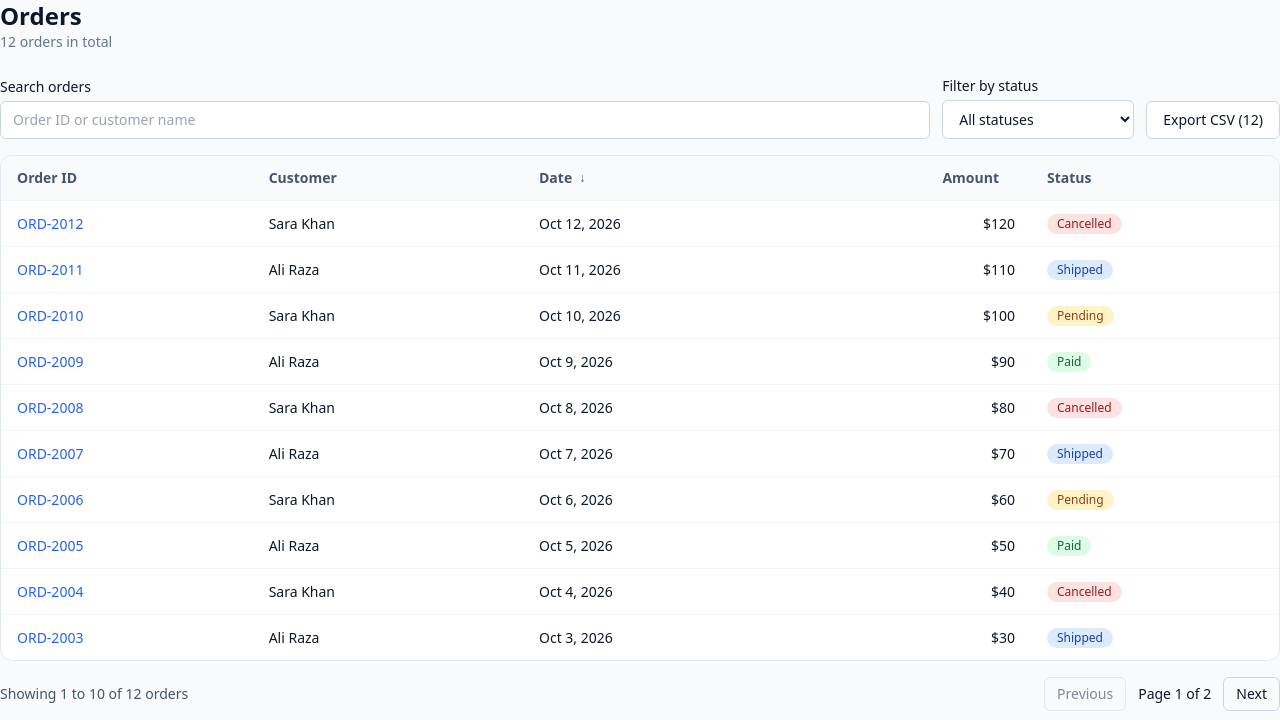
Test case: OrdersPage › opens the details panel for a row and closes it with Escape
The width and height of the screenshot is (1280, 720).
Click the button "ORD-2012": click(50, 224) [17,214,83,234]
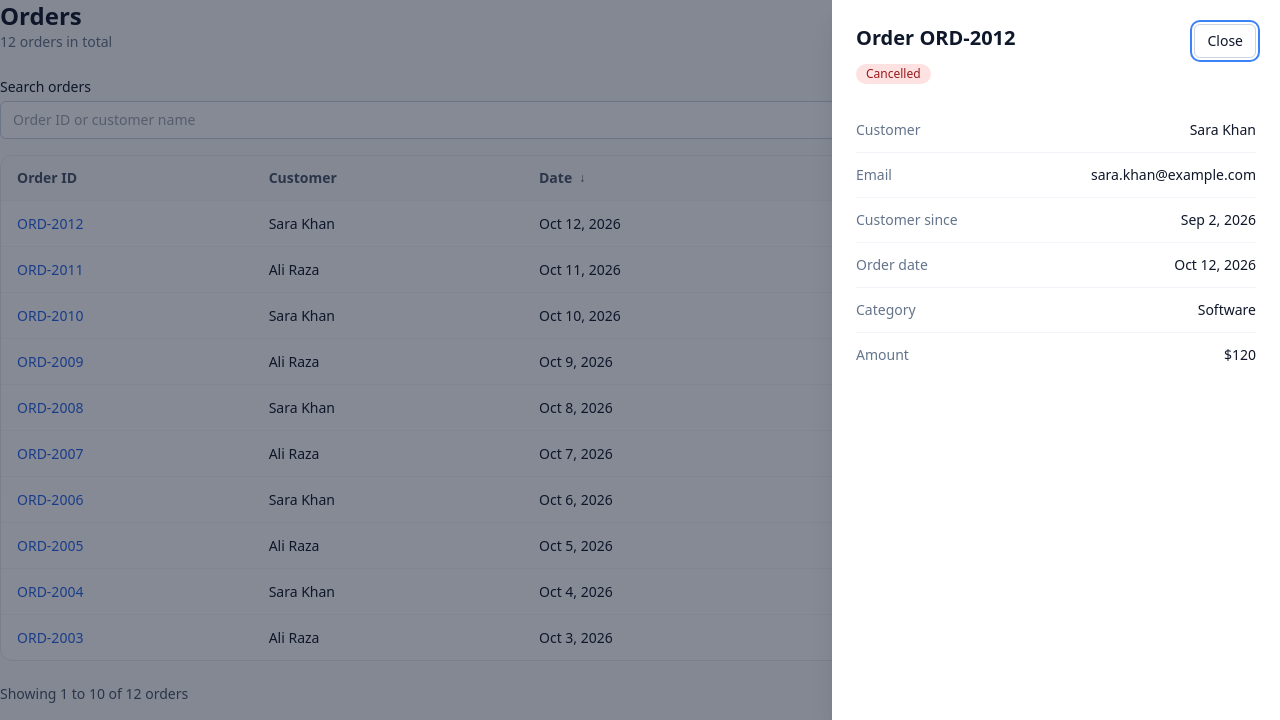
Check: the text "sara.khan@example.com" is shown, box [1091,165,1256,185]
Press Escape
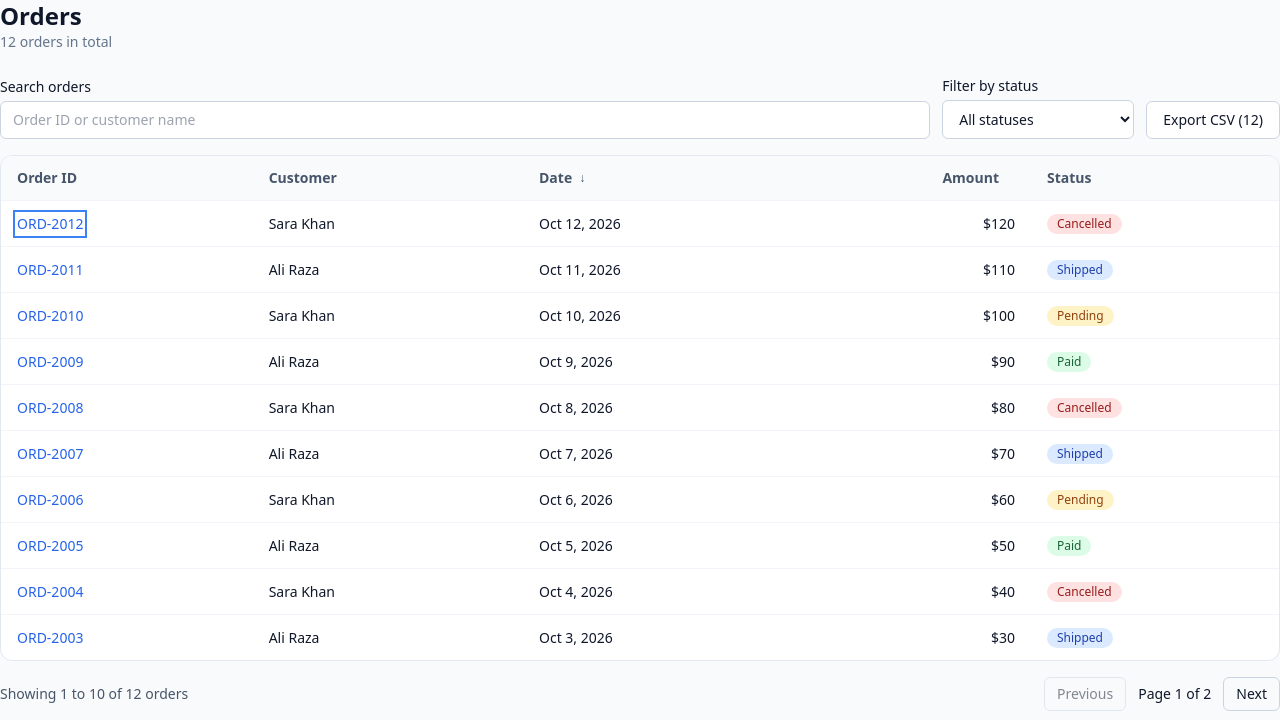
Check: the dialog is gone
